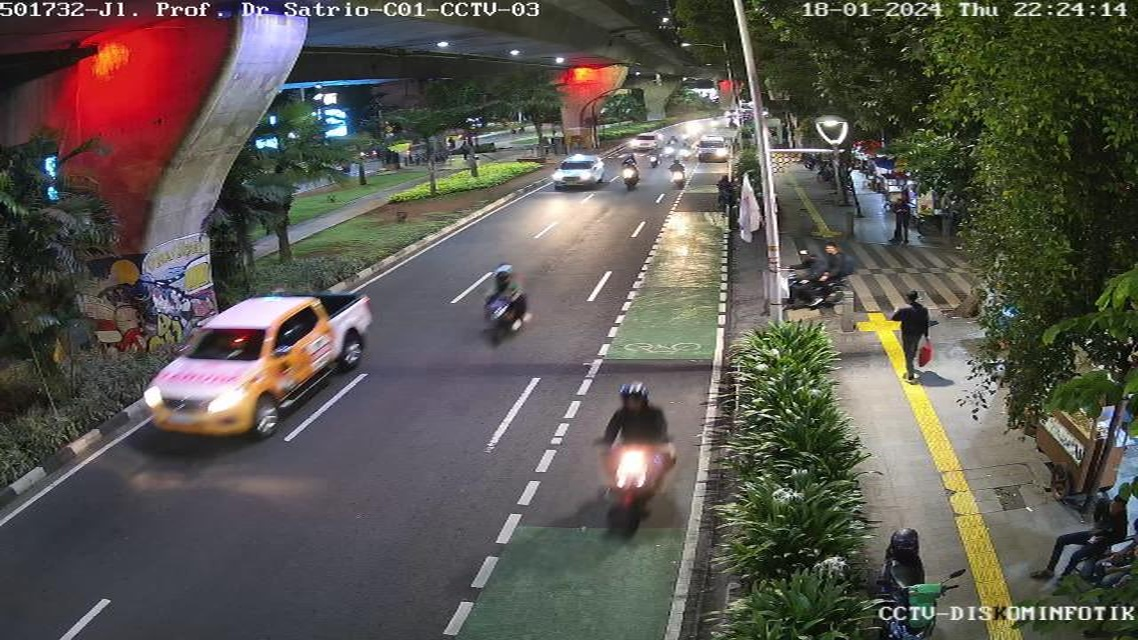Gerobak: (1015, 346, 1124, 512), (882, 173, 907, 211)
